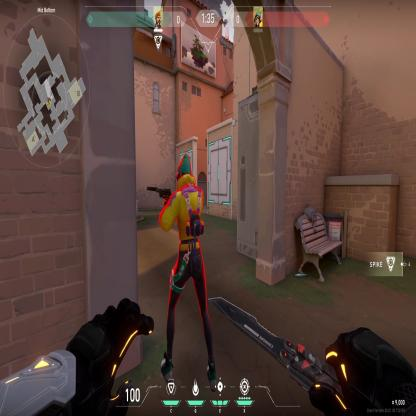enemy: (163, 151, 214, 376)
